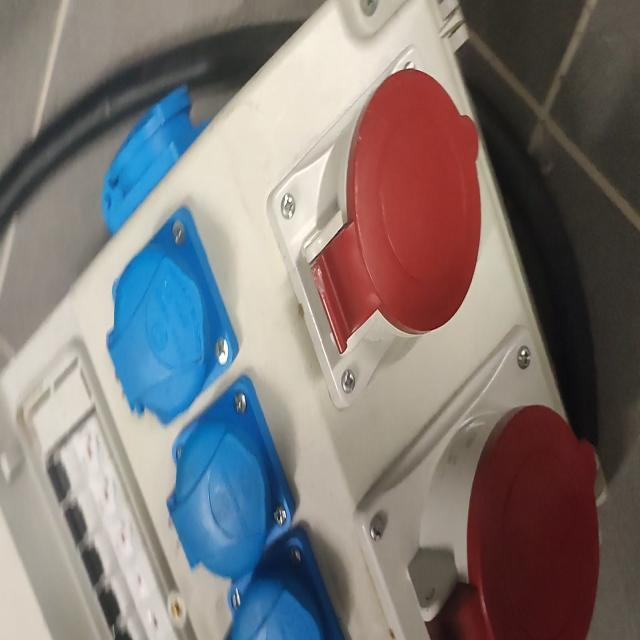400v socket: (263, 46, 483, 411)
house plug covered: (102, 209, 239, 434), (168, 376, 297, 578), (102, 91, 206, 234), (221, 525, 348, 640)
